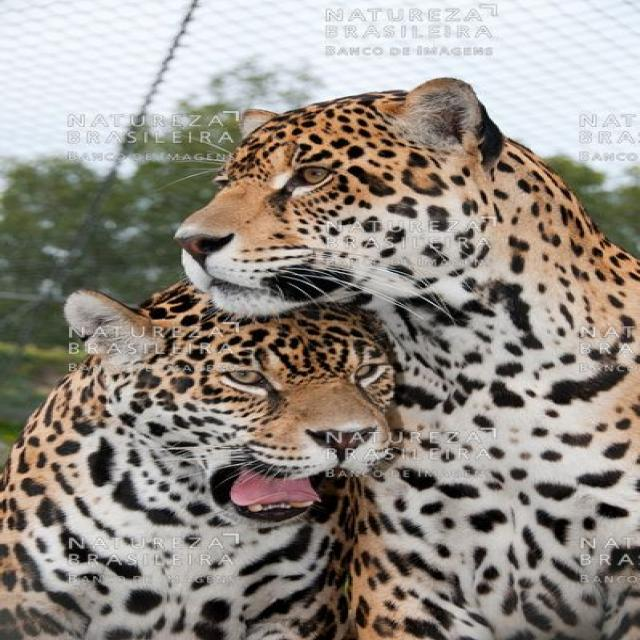Jaguar: (218, 91, 640, 634), (14, 293, 383, 640)
